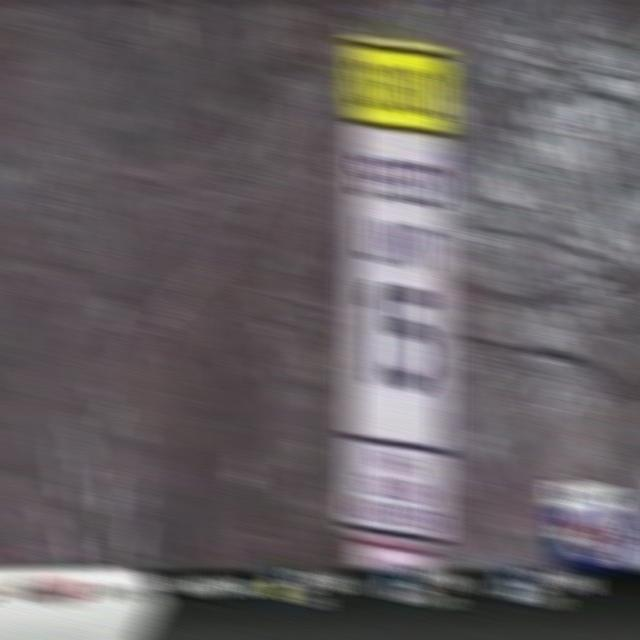speedLimit15: (341, 124, 456, 447)
